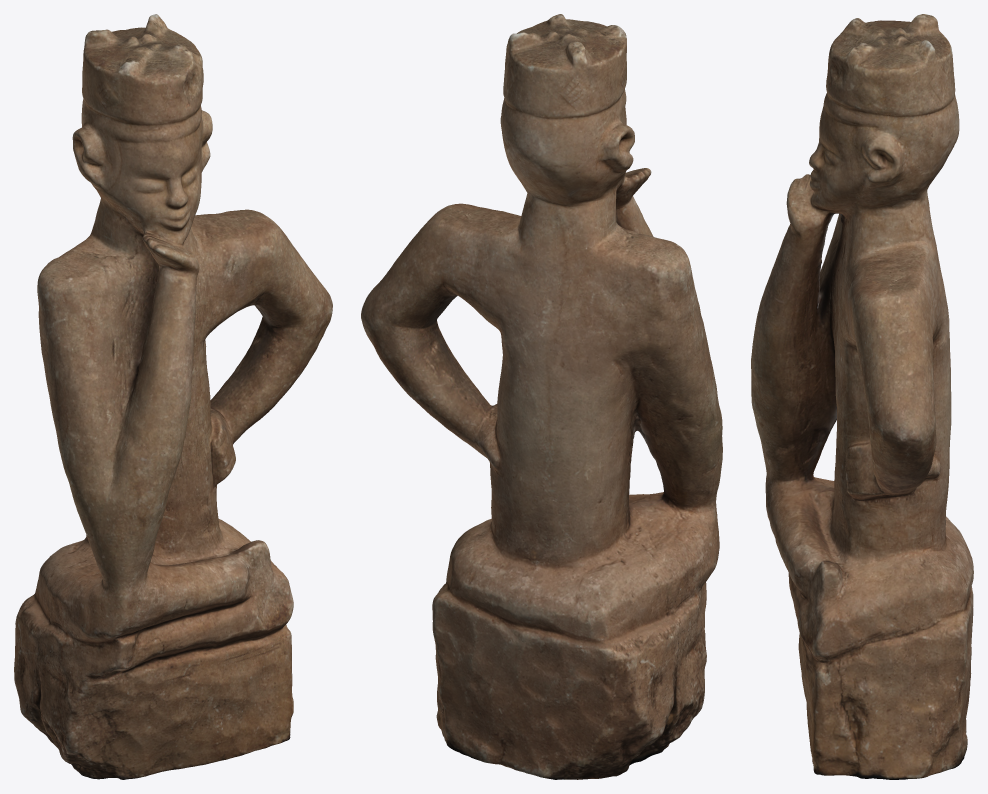
File: preview.glb
3 views of the same model, side by side, from view 1: azimuth 30°, elevation 25°; view 2: azimuth 150°, elevation 25°; view 3: azimuth 270°, elevation 25° (orthographic). The views are drawn at different scales.
Parts seen in each view (by area): view 1: Object_2; view 2: Object_2; view 3: Object_2.
Part boxes in pixels (x1,y1,x2,y2): Object_2: [14, 14, 332, 779]; Object_2: [361, 14, 722, 779]; Object_2: [751, 14, 973, 779].
Size of the model in its own units: 0.4075 by 0.9291 by 0.2612.
1 material, 1 textured.
